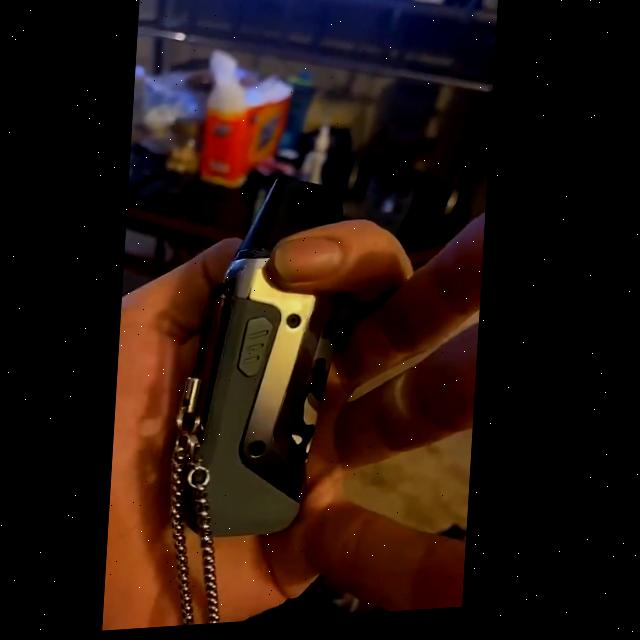vape: (159, 175, 356, 546)
